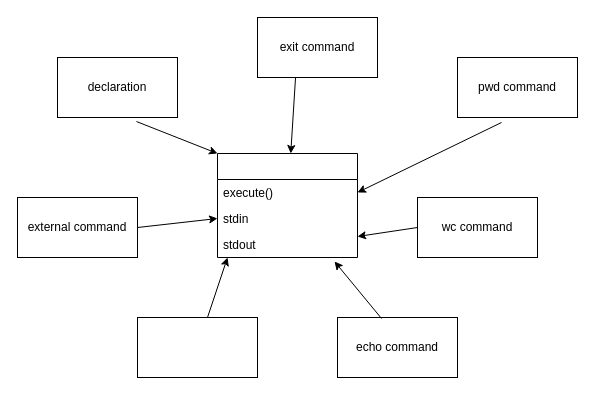
Image size: 595x395. Some labels were removed from this diagram. The shapes that lost their labels are listed below. From the top down, each one's box as (x1, y1, x2, y2) in pixels, then its label:
(216, 152, 358, 258): Abstract Command
(136, 316, 258, 378): cat command
